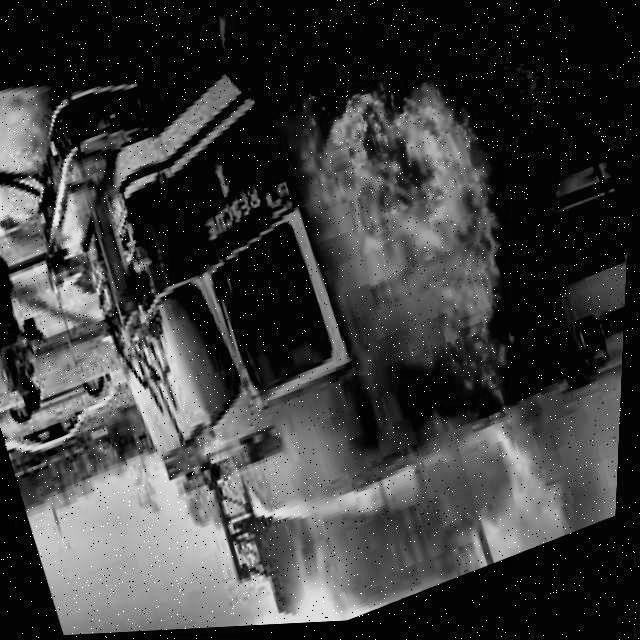Fire: (253, 51, 562, 430)
Smoke: (267, 302, 629, 628)
